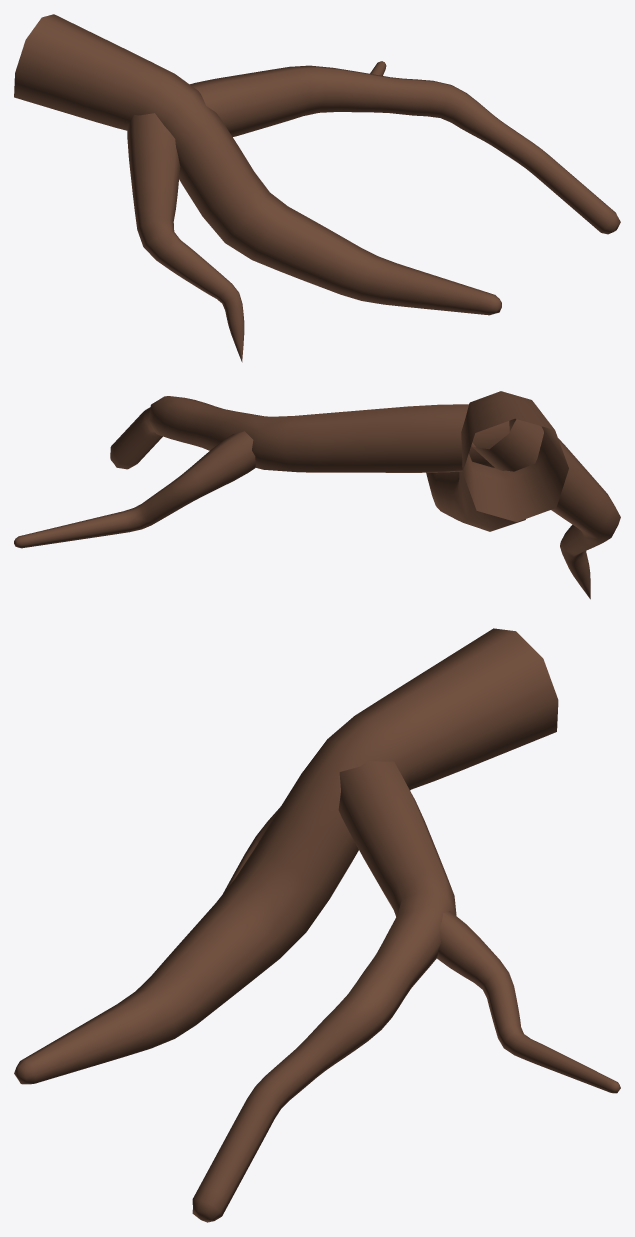
File: Wurzel Last Fix.fbx
3 views of the same model, one above another, from view 1: azimuth 30°, elevation 25°; view 2: azimuth 150°, elevation 25°; view 3: azimuth 270°, elevation 25° (orthographic). The views are drawn at different scales.
Parts seen in each view (by area): view 1: Wurzel Last Fix; view 2: Wurzel Last Fix; view 3: Wurzel Last Fix.
Boxes of the visible parts, x1,y1,x2,y2 form: Wurzel Last Fix: [14, 14, 620, 362]; Wurzel Last Fix: [14, 391, 620, 599]; Wurzel Last Fix: [14, 628, 620, 1222].
Bounding box in the file's own units: 224 × 115 × 185.
